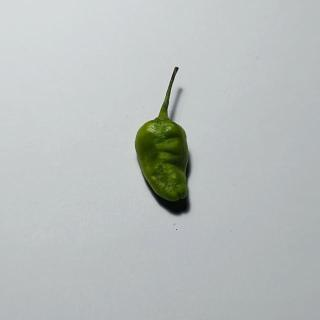Cabai Hijau: (129, 62, 201, 216)
